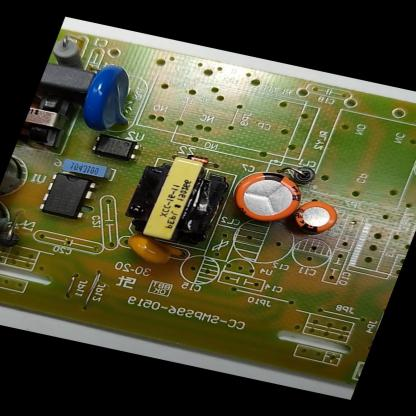Cap1: (228, 168, 310, 229)
Cap2: (291, 198, 344, 236)
Cap3: (0, 146, 36, 201)
Cap4: (0, 197, 22, 258)
MOSFET: (38, 172, 98, 219)
Mov: (73, 60, 142, 134)
Resistor: (48, 32, 94, 70)
Transformer: (120, 151, 230, 247), (19, 91, 69, 144)
